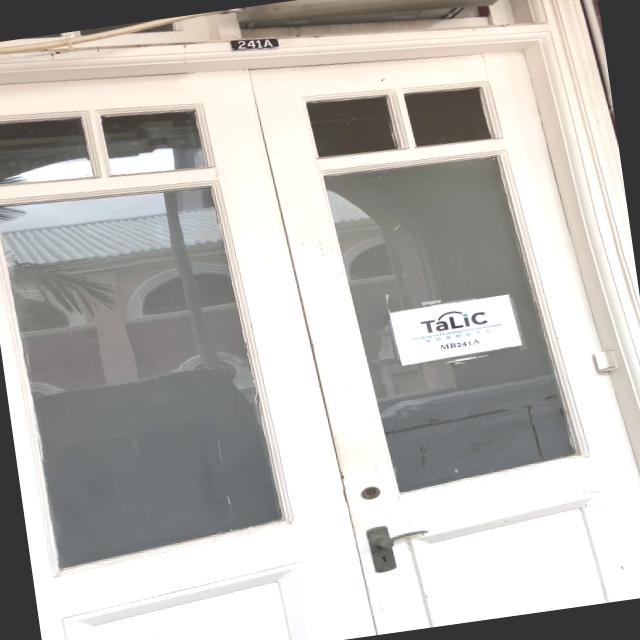room241a: (228, 32, 282, 56)
